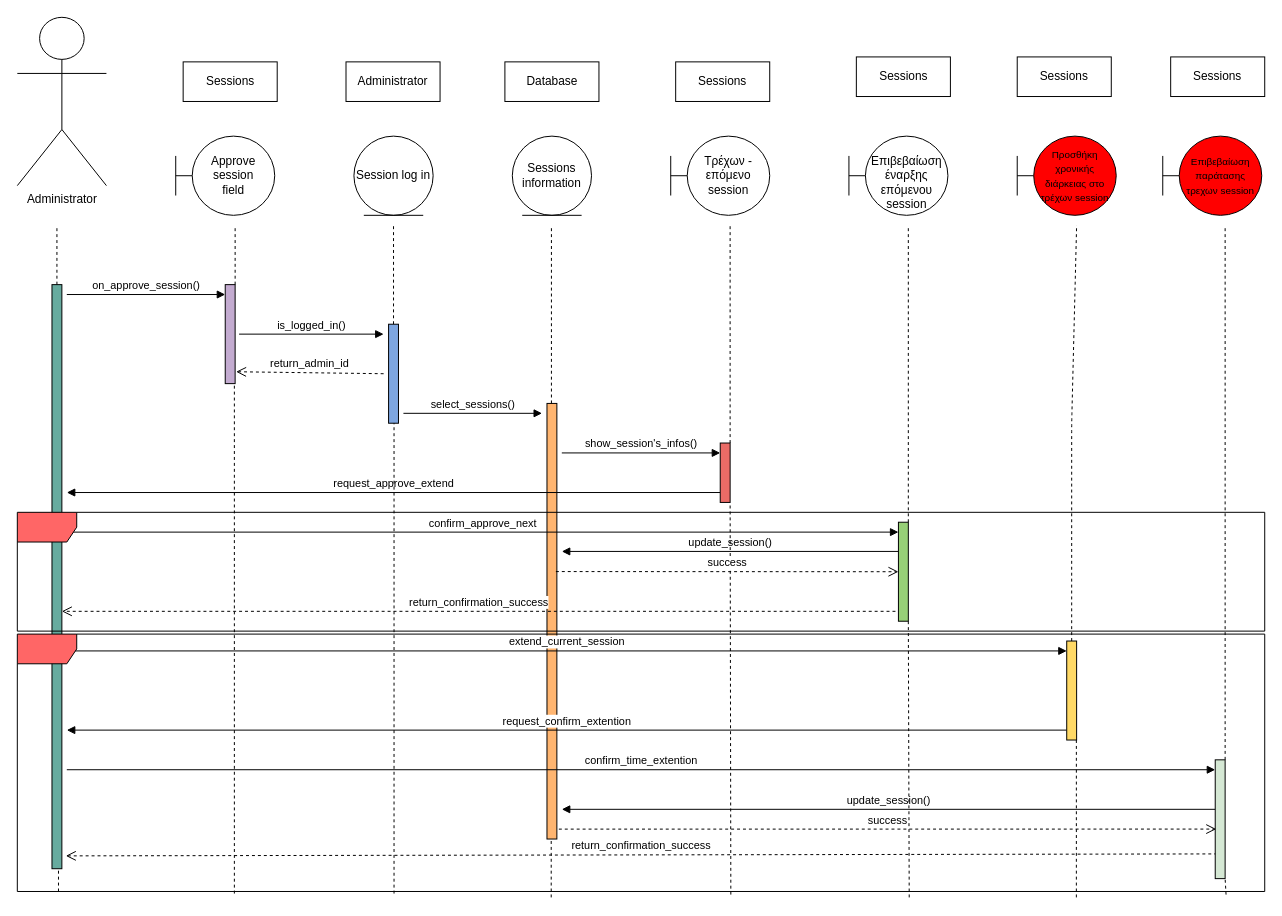
Some shapes in this 1282 by 916 pixel diagram are drawn without their labels. Here are the shapes that lost their labels. From the top down, the centre of each, then its label:
At point (640, 571): "approve next".
At point (640, 762): "extend session".
